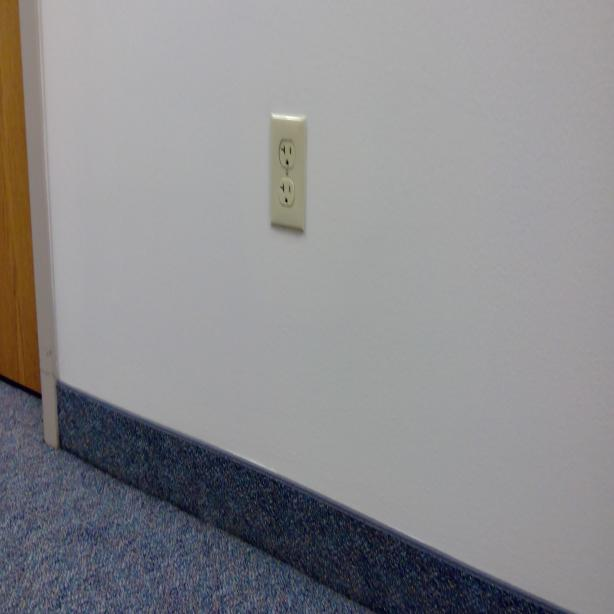typeb: (277, 177, 297, 209), (279, 135, 296, 169)
